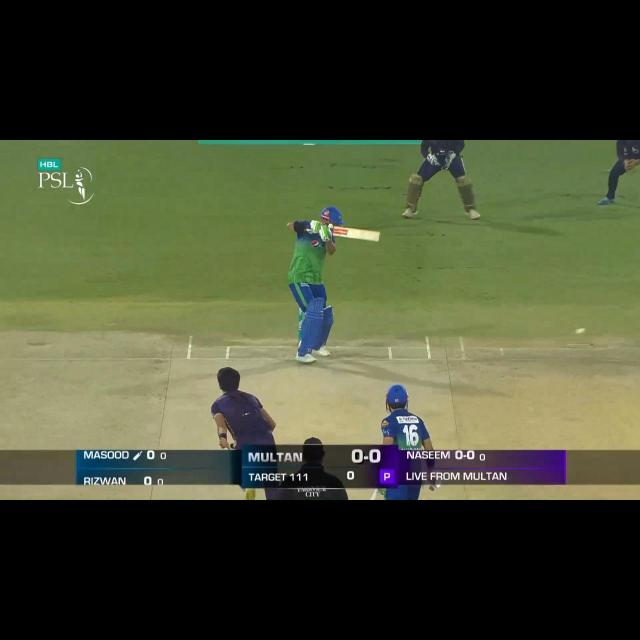bat: (331, 222, 382, 243)
toe: (373, 230, 381, 243)
